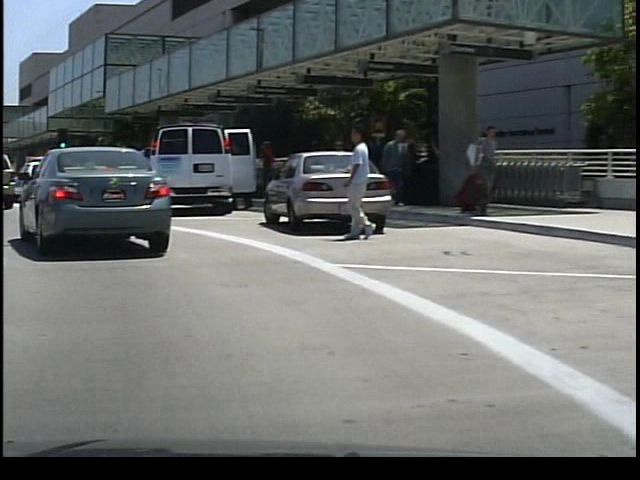person: (333, 121, 376, 242), (459, 120, 495, 215), (386, 125, 408, 204), (253, 135, 277, 202)
